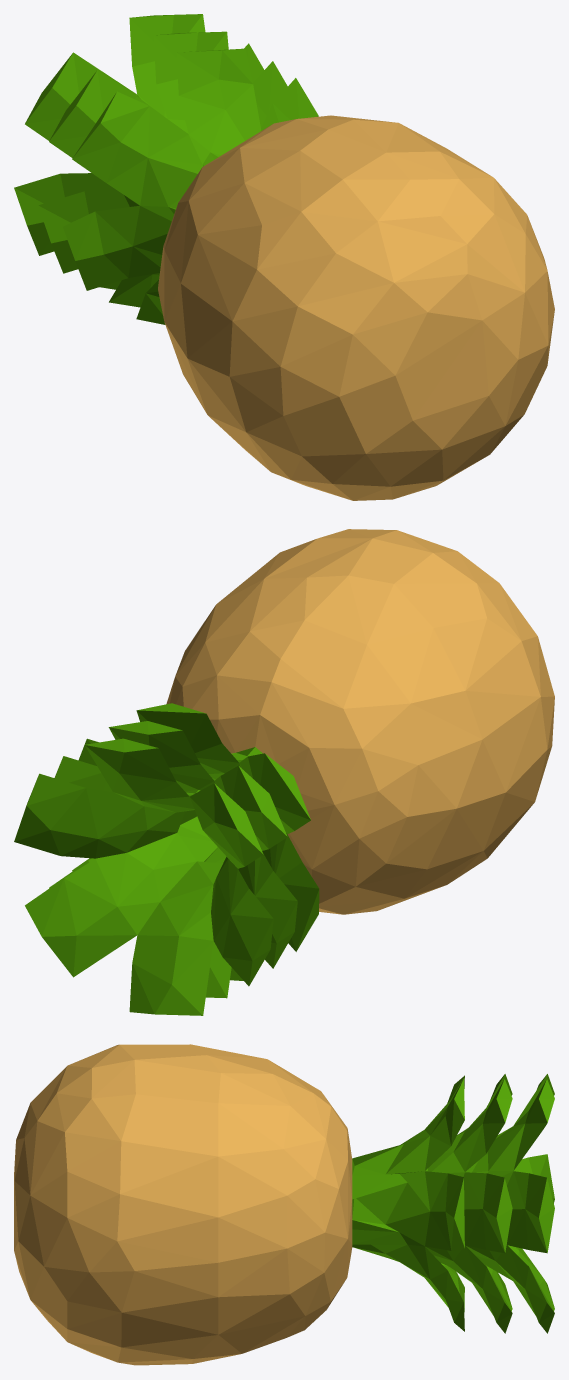
The picture shows the model from 3 angles, top to bottom: view 1: azimuth 30°, elevation 25°; view 2: azimuth 150°, elevation 25°; view 3: azimuth 270°, elevation 25°; orthographic projection. The views are drawn at different scales.
Visible parts, largest first — view 1: 零件10; view 2: 零件10; view 3: 零件10.
Boxes of the visible parts, x1,y1,x2,y2 form: 零件10: (14,14,554,500); 零件10: (14,529,554,1015); 零件10: (14,1044,554,1365).
Bounding box in the file's own units: 7625 × 7683 × 12780.
